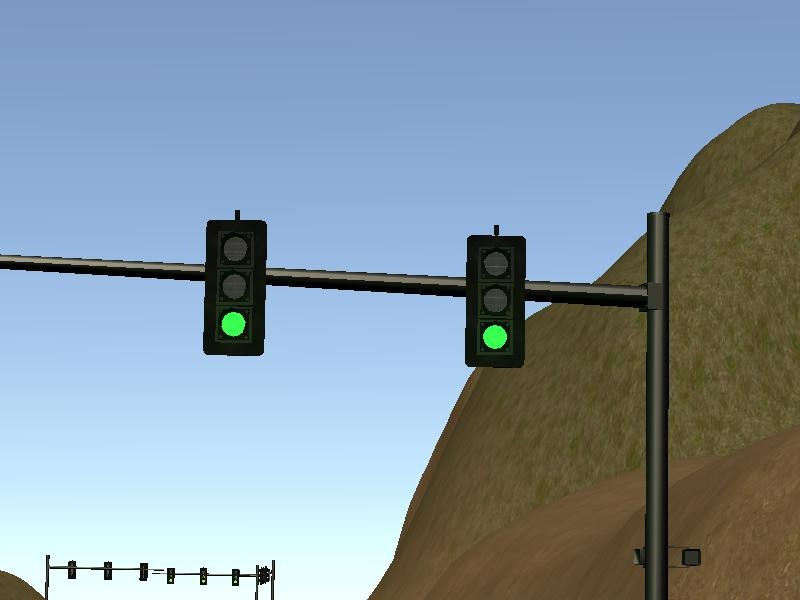GREEN: (205, 220, 265, 355), (465, 237, 527, 367)
